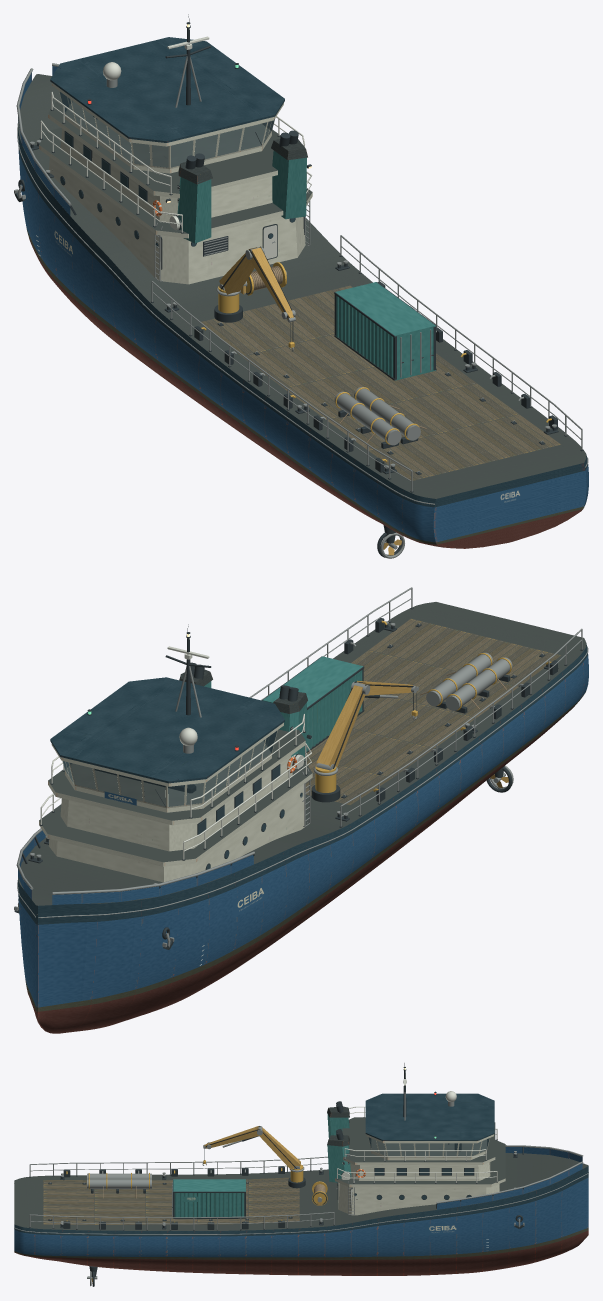
The model's file is supply.glb.
3 renders of one model, top to bottom at view 1: azimuth 30°, elevation 25°; view 2: azimuth 150°, elevation 25°; view 3: azimuth 270°, elevation 25°, orthographic. The views are drawn at different scales.
Visible parts, largest first — view 1: supply_assembly; view 2: supply_assembly; view 3: supply_assembly.
Part boxes in pixels (x1=…): supply_assembly: x1=14, y1=14, x2=588, y2=558; supply_assembly: x1=14, y1=587, x2=588, y2=1033; supply_assembly: x1=14, y1=1063, x2=588, y2=1286.
Bounding box in the file's own units: 10.54 × 17.38 × 43.54.
14 materials, 3 textured.
